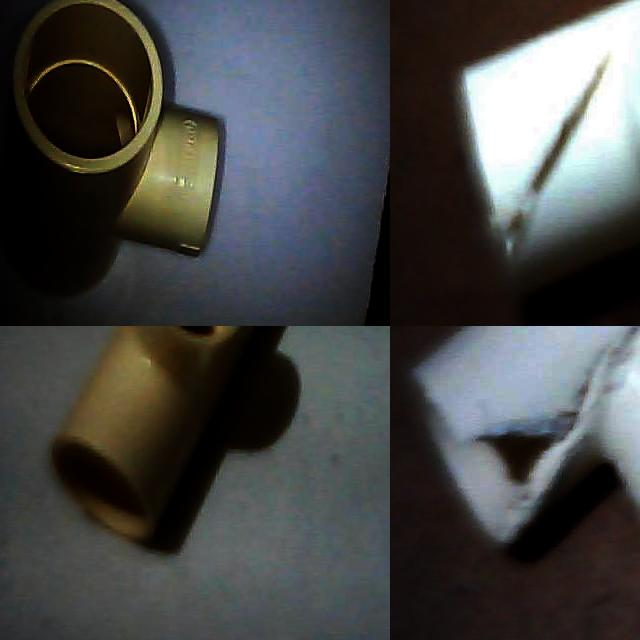Defective: (454, 362, 608, 558), (485, 44, 605, 292)
T Joint: (0, 0, 227, 300), (405, 326, 640, 551), (53, 326, 254, 542)
